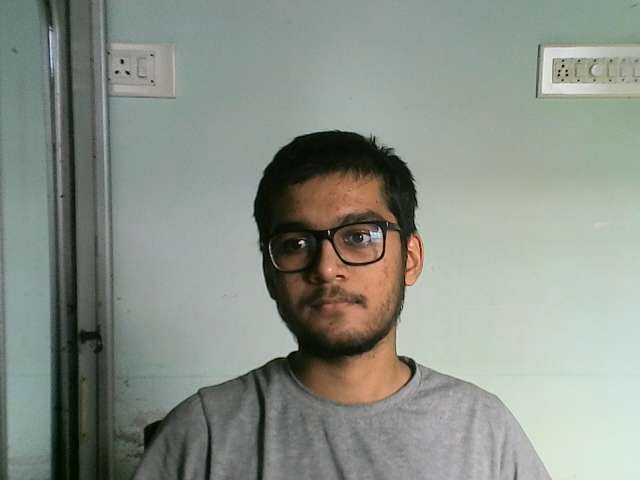face: (269, 168, 406, 357)
